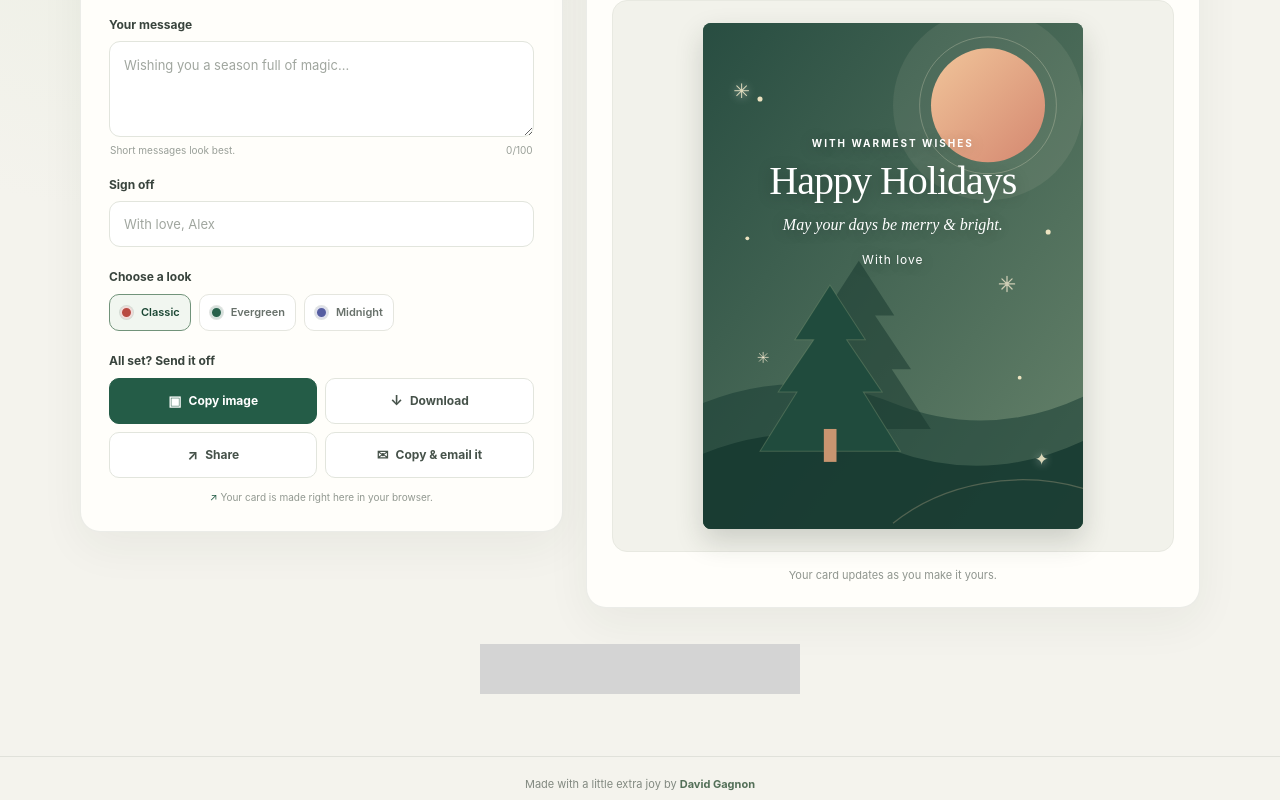
Test: shows an error when card image generation fails
This screenshot has width=1280, height=800.
(page scrolled)
Click the button "▣ Copy image" at (213, 401), box [109, 378, 317, 424]
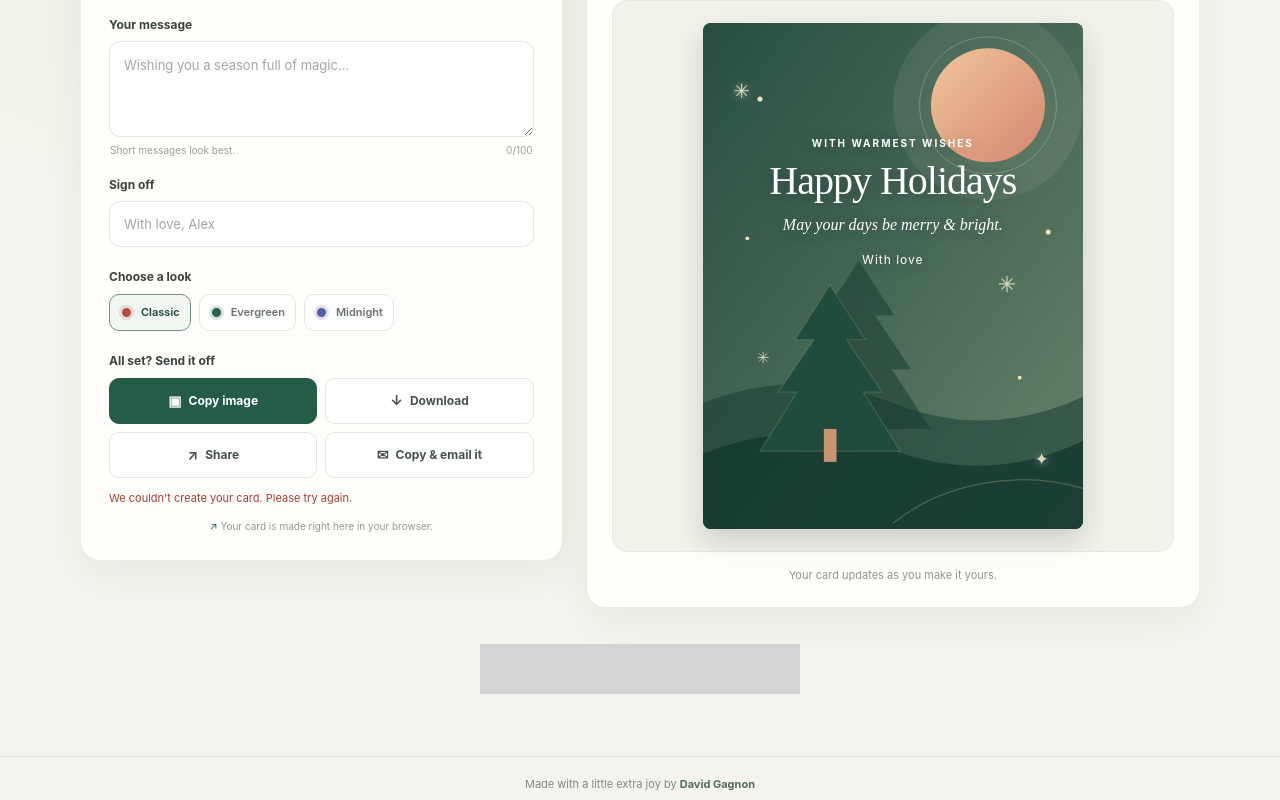
Expected: the message "We couldn't create your card. Please try again." is shown, [109, 491, 352, 505]
